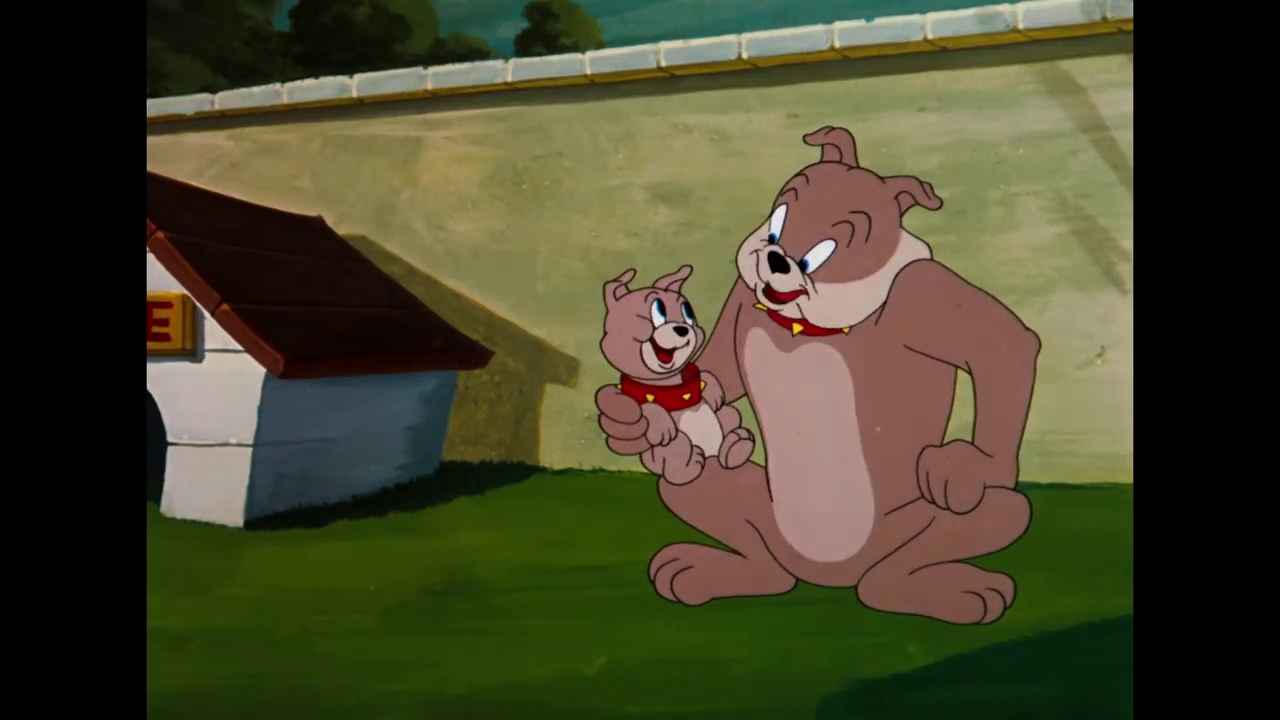spike: (730, 121, 948, 342)
